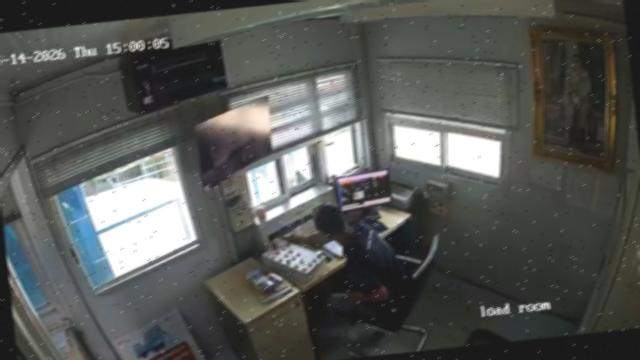Head: (312, 204, 349, 242)
People: (313, 204, 409, 309)
